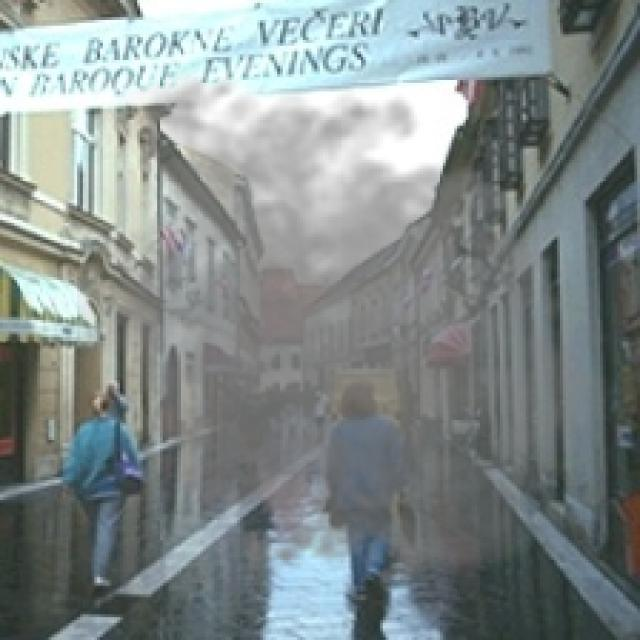Smoke: (77, 62, 632, 594)
